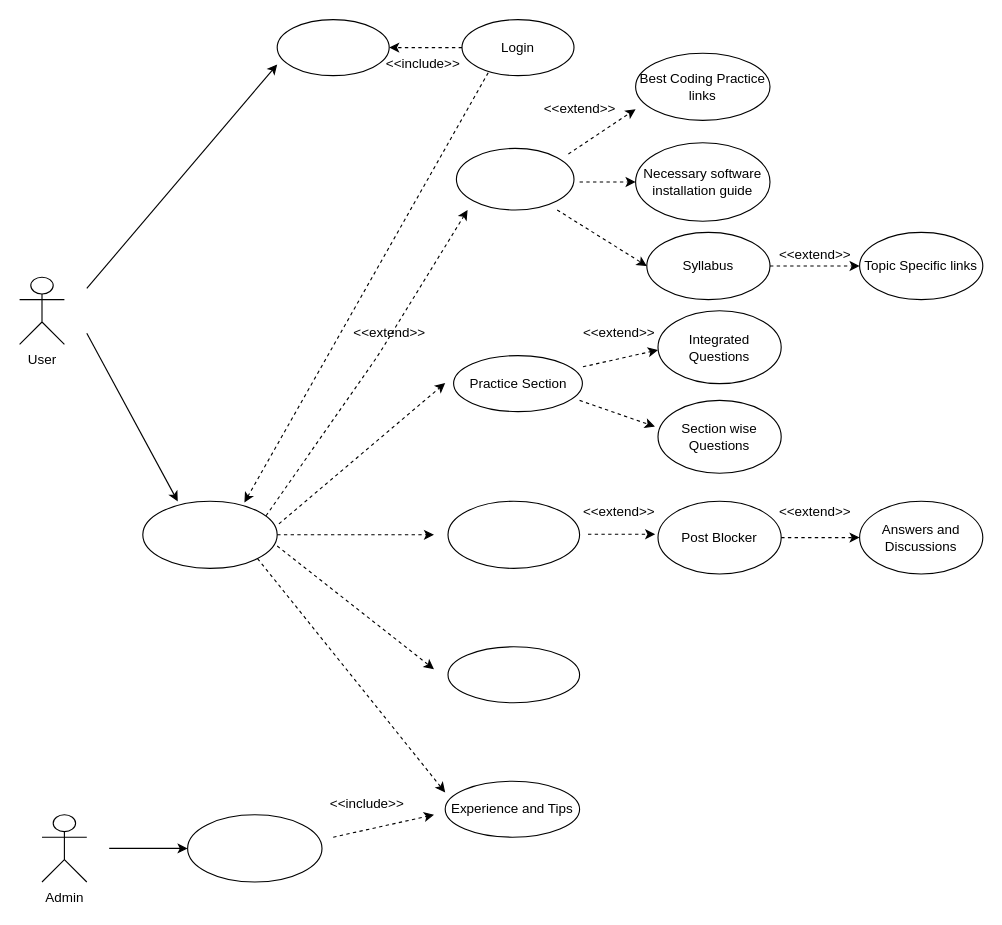
Some shapes in this 1002 by 925 pixel diagram are drawn without their labels. The shapes that lost their labels are listed below. From the top down, each one's centre as x and y in pixels, then its label:
point 332,47: Register
point 514,178: Pre-requisite
point 209,534: Home Page
point 513,534: Discussion Forum
point 513,674: User Profile Page
point 254,848: Able to create, edit and delete
